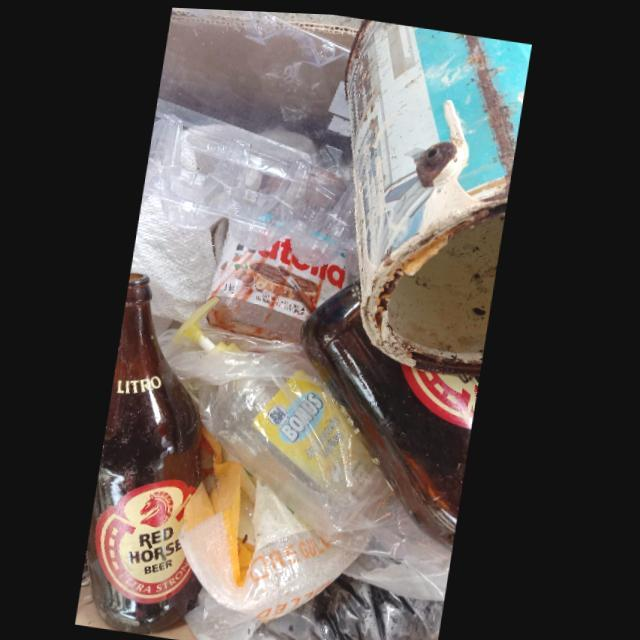glass: (304, 277, 483, 545), (92, 270, 209, 632)
metal: (346, 16, 533, 371)
plastic: (144, 96, 362, 270), (210, 233, 348, 340)
